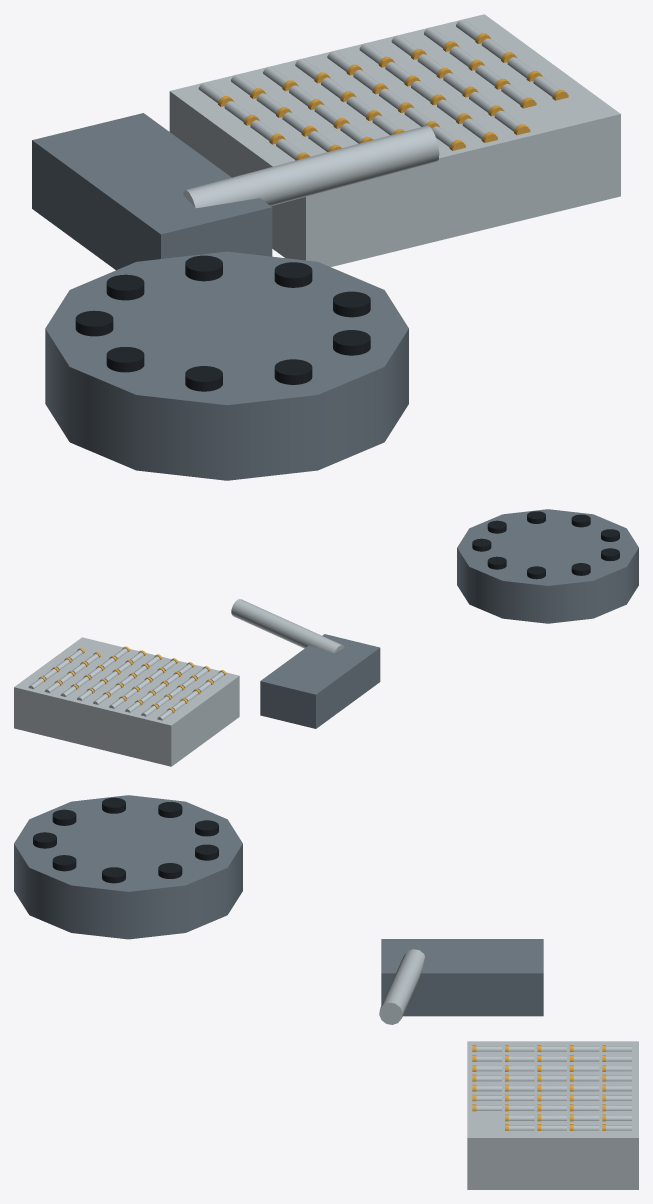
The model's file is perseverance_sampling.glb.
3 views of the same model, one above another, from view 1: azimuth 30°, elevation 25°; view 2: azimuth 150°, elevation 25°; view 3: azimuth 270°, elevation 25° (orthographic). The views are drawn at different scales.
Parts seen in each view (by area): view 1: perseverance_sampling.bit_carousel.mesh_Machined_steel, perseverance_sampling.tube_storage.mesh_Satin_aluminum, perseverance_sampling.transfer_mechanism.mesh_Machined_steel, perseverance_sampling.transfer_mechanism.mesh_Satin_aluminum, perseverance_sampling.bit_carousel.mesh_Carbon_composite; view 2: perseverance_sampling.tube_storage.mesh_Satin_aluminum, perseverance_sampling.bit_carousel.mesh_Machined_steel, perseverance_sampling.transfer_mechanism.mesh_Machined_steel, perseverance_sampling.transfer_mechanism.mesh_Satin_aluminum, perseverance_sampling.bit_carousel.mesh_Carbon_composite; view 3: perseverance_sampling.bit_carousel.mesh_Machined_steel, perseverance_sampling.tube_storage.mesh_Satin_aluminum, perseverance_sampling.transfer_mechanism.mesh_Machined_steel, perseverance_sampling.bit_carousel.mesh_Carbon_composite, perseverance_sampling.transfer_mechanism.mesh_Satin_aluminum.
Part boxes in pixels (x1,y1,x2,y2): perseverance_sampling.bit_carousel.mesh_Machined_steel: (45,251,408,480); perseverance_sampling.tube_storage.mesh_Satin_aluminum: (169,14,620,266); perseverance_sampling.transfer_mechanism.mesh_Machined_steel: (32,113,272,270); perseverance_sampling.transfer_mechanism.mesh_Satin_aluminum: (183,125,439,208); perseverance_sampling.bit_carousel.mesh_Carbon_composite: (75,255,370,391); perseverance_sampling.tube_storage.mesh_Satin_aluminum: (14,637,239,766); perseverance_sampling.bit_carousel.mesh_Machined_steel: (457,509,638,623); perseverance_sampling.transfer_mechanism.mesh_Machined_steel: (260,634,380,728); perseverance_sampling.transfer_mechanism.mesh_Satin_aluminum: (231,599,344,653); perseverance_sampling.bit_carousel.mesh_Carbon_composite: (472,511,619,579); perseverance_sampling.bit_carousel.mesh_Machined_steel: (14,795,242,939); perseverance_sampling.tube_storage.mesh_Satin_aluminum: (467,1041,638,1189); perseverance_sampling.transfer_mechanism.mesh_Machined_steel: (381,939,543,1016); perseverance_sampling.bit_carousel.mesh_Carbon_composite: (33,797,218,883); perseverance_sampling.transfer_mechanism.mesh_Satin_aluminum: (379,949,424,1024).
Size of the model in its own units: 1.25 by 0.344 by 1.31.
